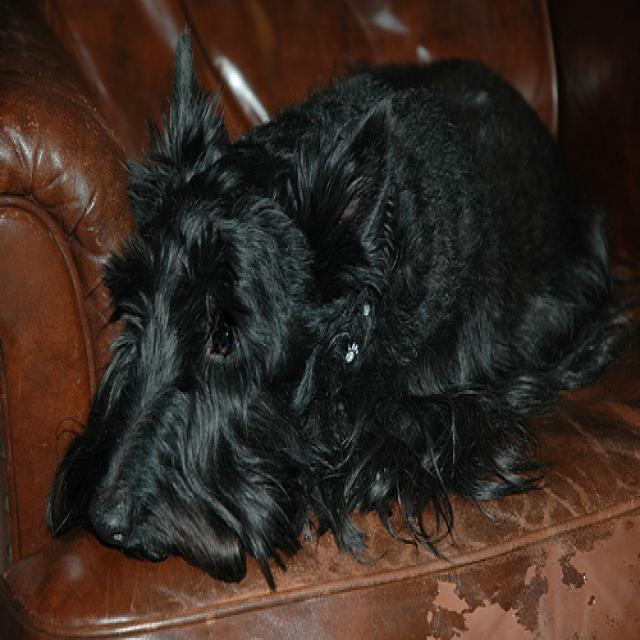dog: (85, 27, 389, 555)
